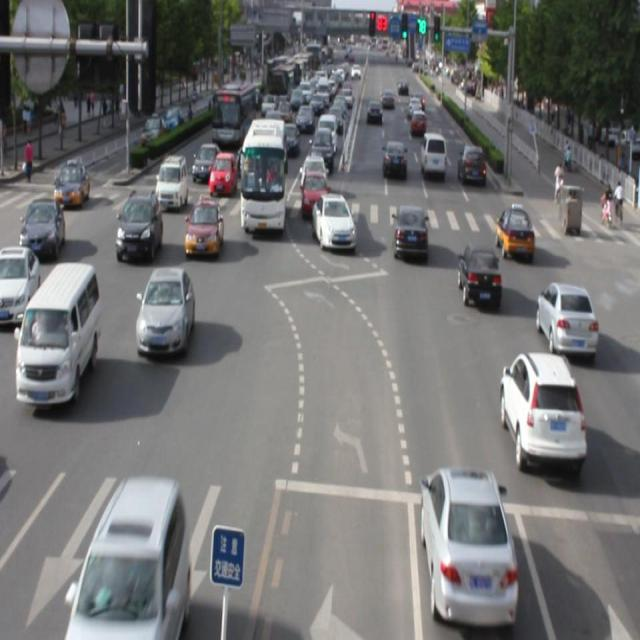car: (72, 480, 190, 640), (422, 463, 516, 618), (500, 350, 583, 465), (134, 266, 194, 354), (536, 281, 596, 353), (115, 190, 163, 260), (457, 242, 500, 307), (311, 196, 355, 253), (184, 198, 223, 256), (393, 205, 428, 260), (496, 204, 532, 256)
truck: (16, 261, 99, 406)
van: (240, 116, 285, 231)
